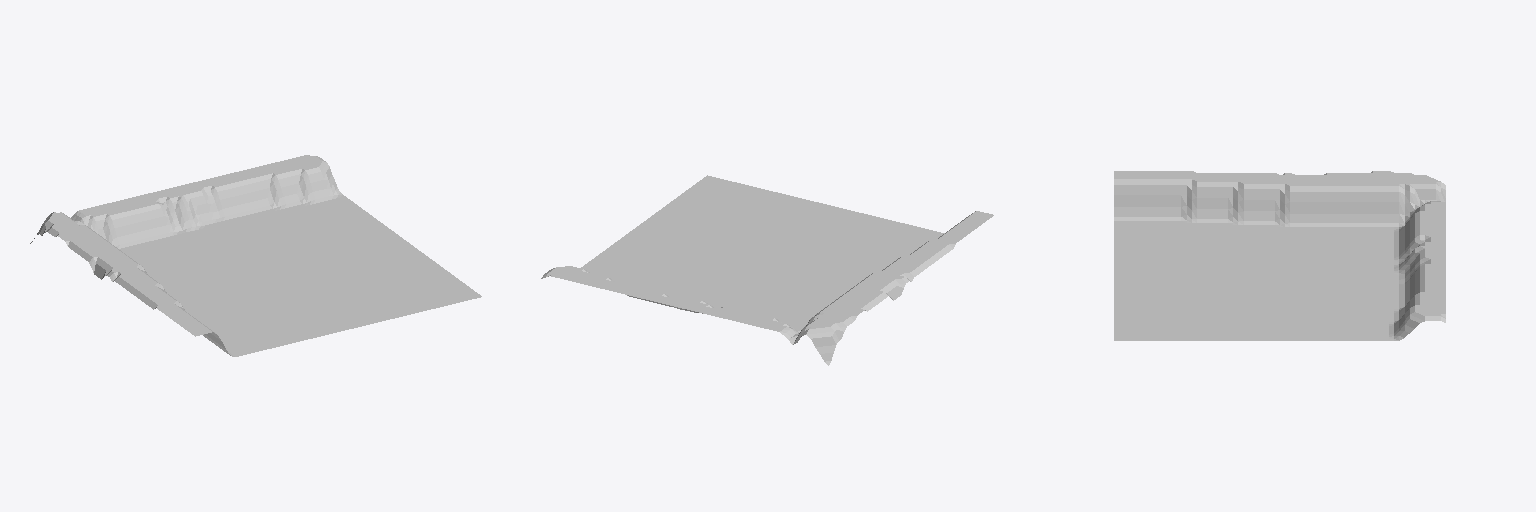
Rendered from KociaLapkalg.obj.
3 views of the same model, side by side, from view 1: azimuth 30°, elevation 25°; view 2: azimuth 150°, elevation 25°; view 3: azimuth 270°, elevation 25° (orthographic).
Visible parts, largest first — view 1: Plane.001_Plane; view 2: Plane.001_Plane; view 3: Plane.001_Plane.
Part boxes in pixels (bbox=[...]): Plane.001_Plane: bbox=[30, 155, 481, 356]; Plane.001_Plane: bbox=[541, 175, 993, 365]; Plane.001_Plane: bbox=[1114, 171, 1445, 340].
Bounding box in the file's own units: 100 × 10.12 × 100.